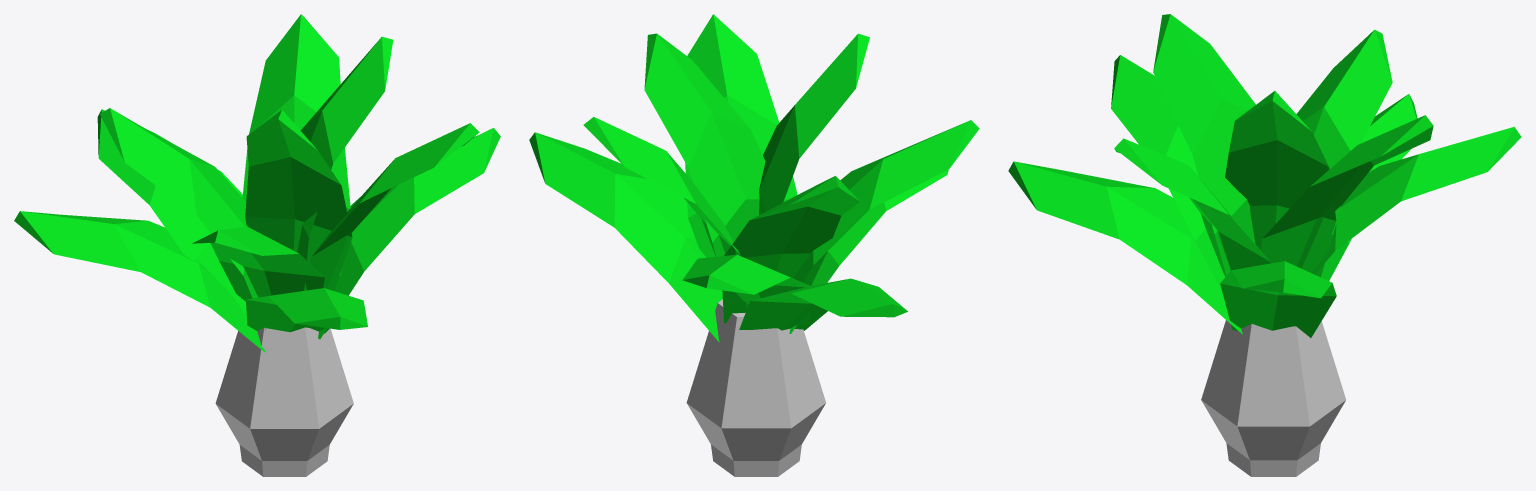
Rendered from tree1.fbx.
The picture shows the model from 3 angles, left to right: view 1: azimuth 30°, elevation 25°; view 2: azimuth 150°, elevation 25°; view 3: azimuth 270°, elevation 25°; orthographic projection. The views are drawn at different scales.
Visible parts, largest first — view 1: Tree_Type7_01_mesh; view 2: Tree_Type7_01_mesh; view 3: Tree_Type7_01_mesh.
Part boxes in pixels (x1=…): Tree_Type7_01_mesh: x1=14, y1=14, x2=500, y2=476; Tree_Type7_01_mesh: x1=529, y1=14, x2=979, y2=476; Tree_Type7_01_mesh: x1=1008, y1=14, x2=1521, y2=476.
Size of the model in its own units: 313 by 282 by 312.
